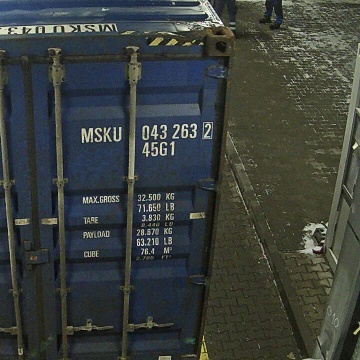serial_id: (81, 123, 212, 142)
